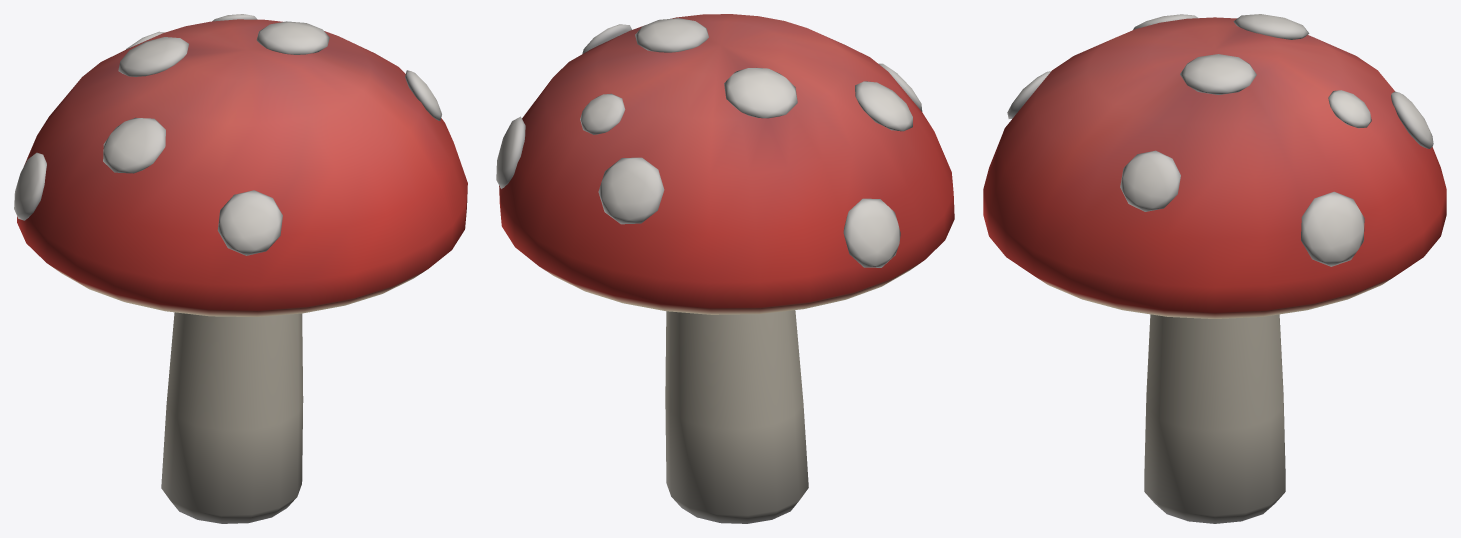
File: mushroom_red.glb
3 views of the same model, side by side, from view 1: azimuth 30°, elevation 25°; view 2: azimuth 150°, elevation 25°; view 3: azimuth 270°, elevation 25° (orthographic). The views are drawn at different scales.
Visible parts, largest first — view 1: mushroom_red; view 2: mushroom_red; view 3: mushroom_red.
Part boxes in pixels (bbox=[...]): mushroom_red: bbox=[14, 14, 467, 523]; mushroom_red: bbox=[496, 14, 954, 523]; mushroom_red: bbox=[983, 14, 1446, 523].
Bounding box in the file's own units: 0.2306 × 0.2546 × 0.23.
